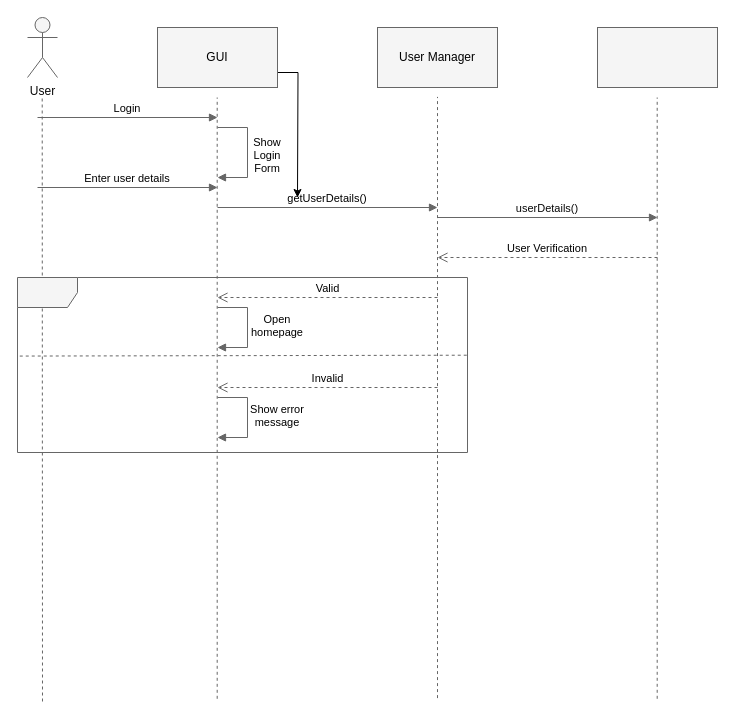
Some shapes in this 735 by 720 pixel diagram are drawn without their labels. Here are the shapes that lost their labels. From the top down, the centre of each, then its label:
At (x=657, y=57): "Authentication Service".
At (x=242, y=364): "alt".
